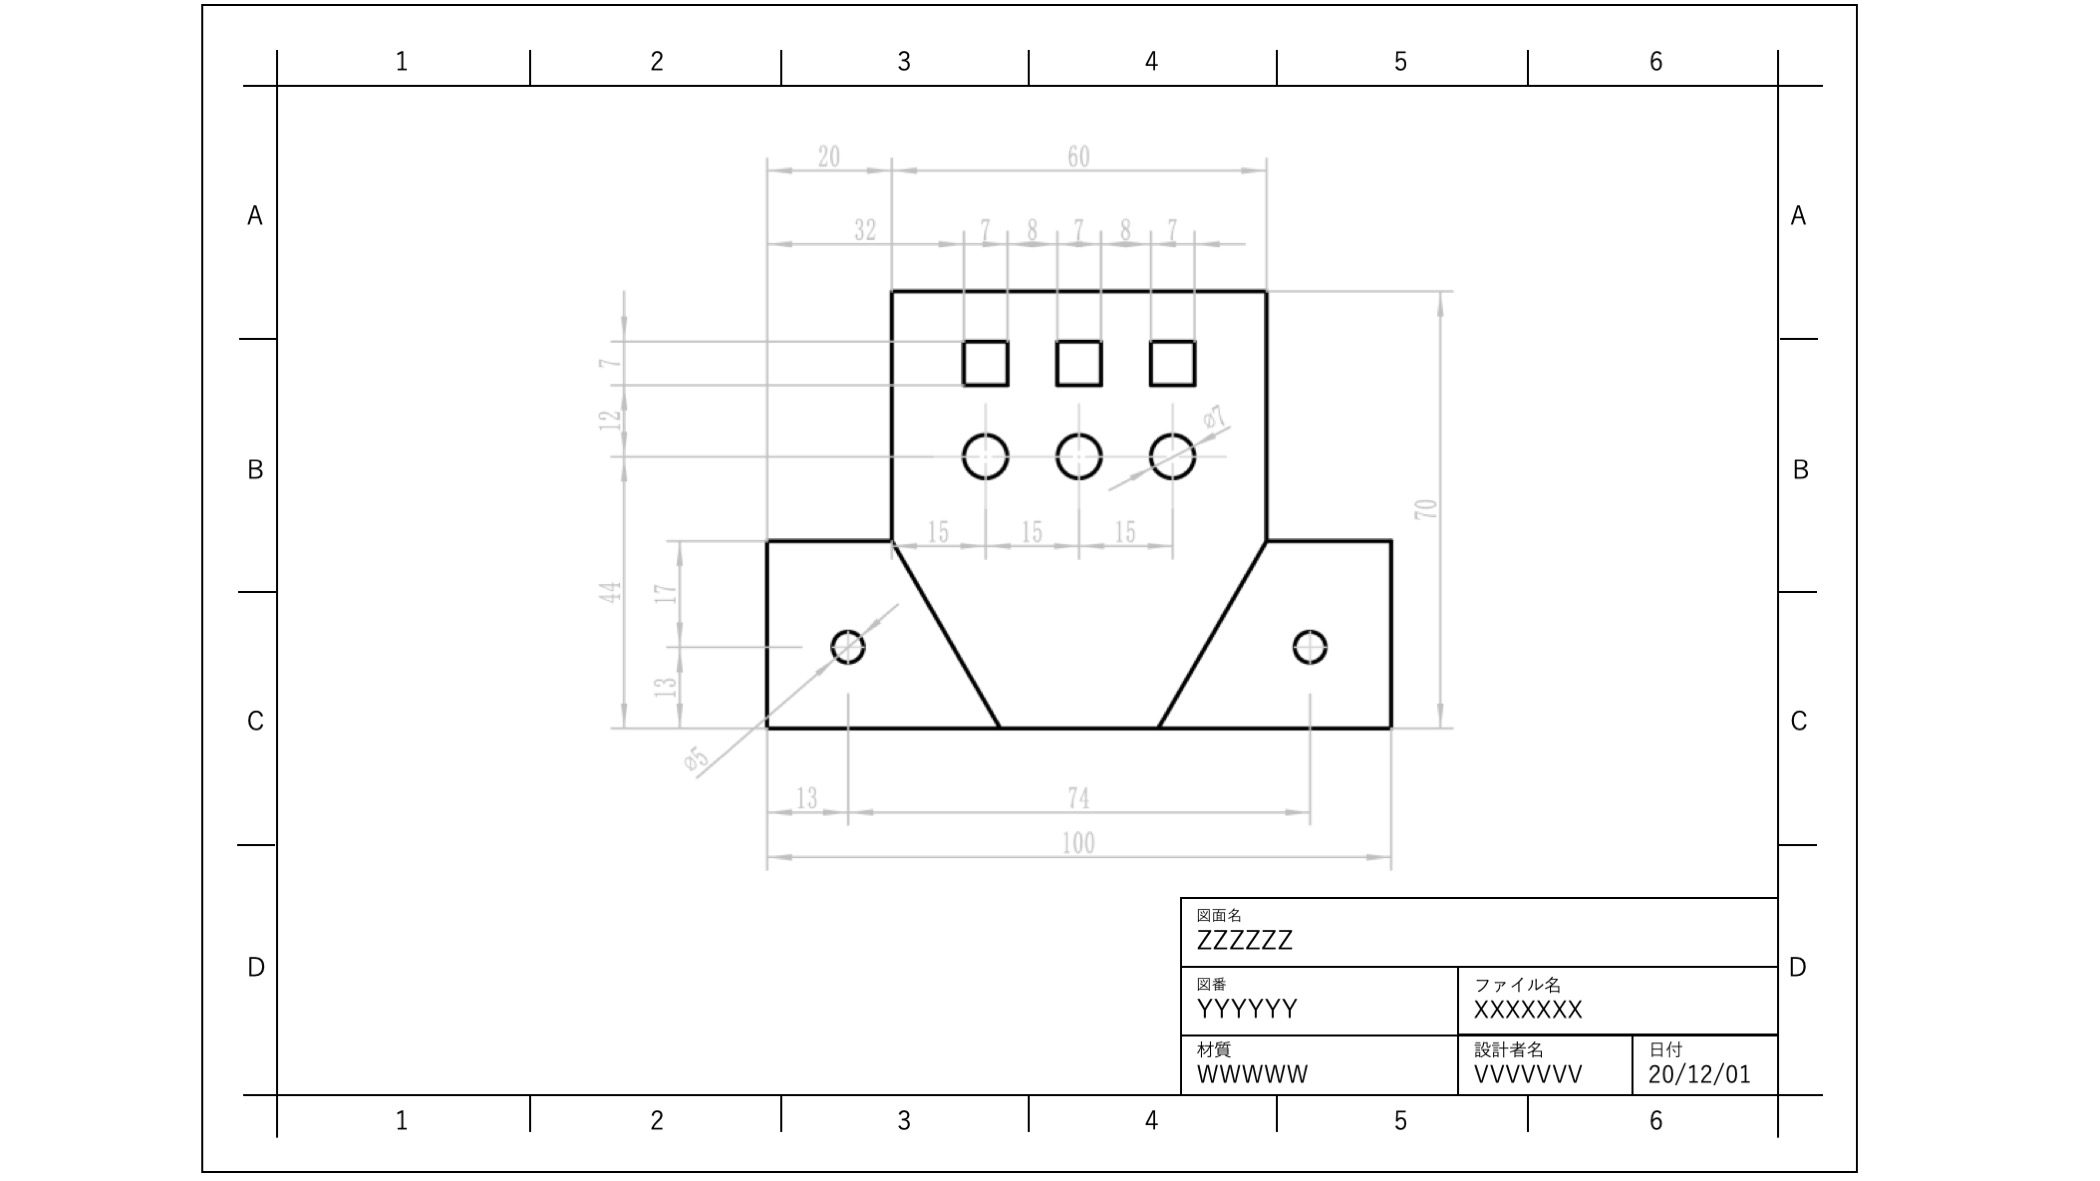circle: (1145, 425, 1203, 485), (1050, 430, 1111, 482), (958, 433, 1012, 482), (822, 624, 870, 673), (1285, 624, 1336, 671)
rectangle: (955, 332, 1018, 397), (1139, 332, 1201, 394), (1050, 333, 1111, 395)
